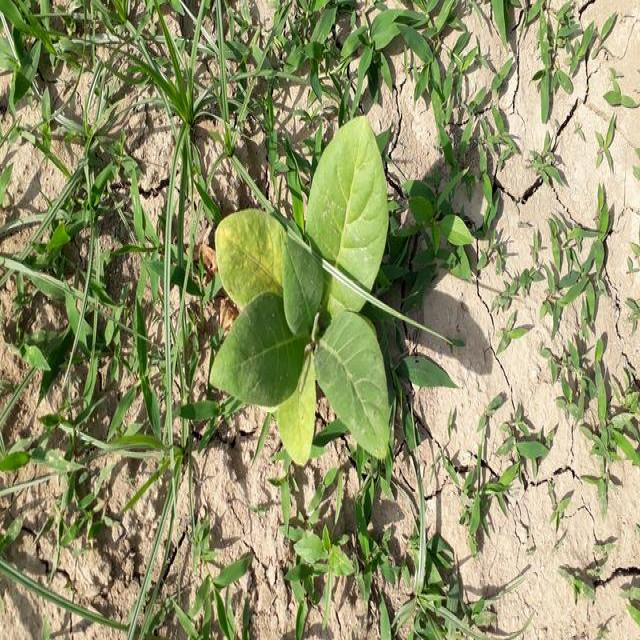crop: (205, 114, 404, 457)
